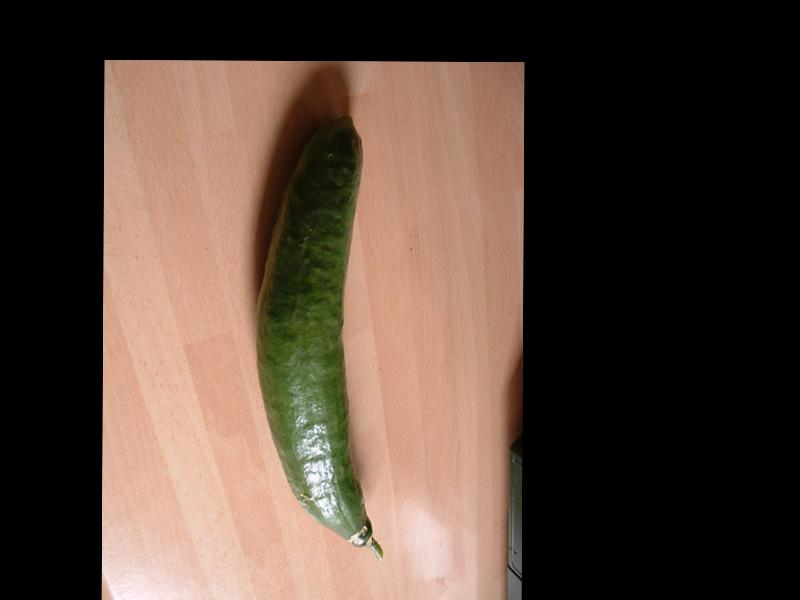Cucumber: (252, 112, 385, 559)
